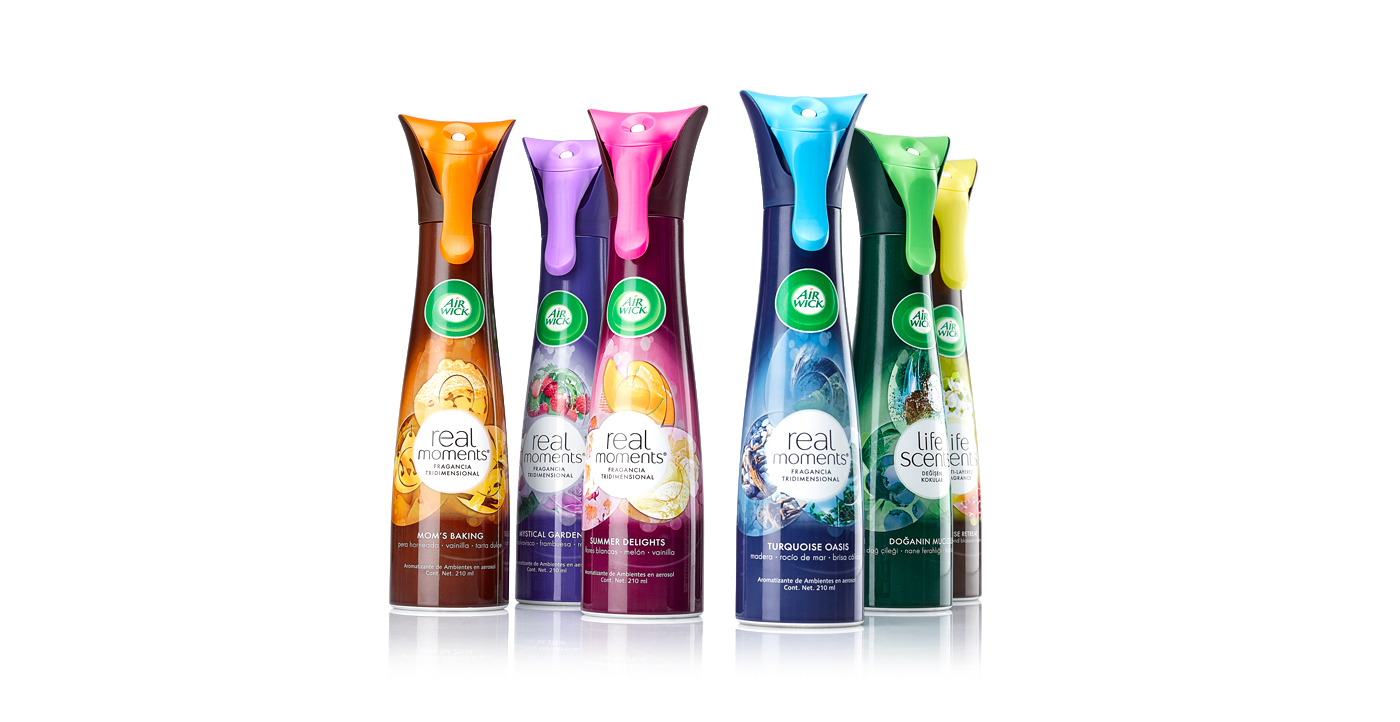Aerosol_cans: (730, 83, 876, 638), (375, 110, 515, 617), (583, 103, 705, 625), (839, 125, 959, 617)
